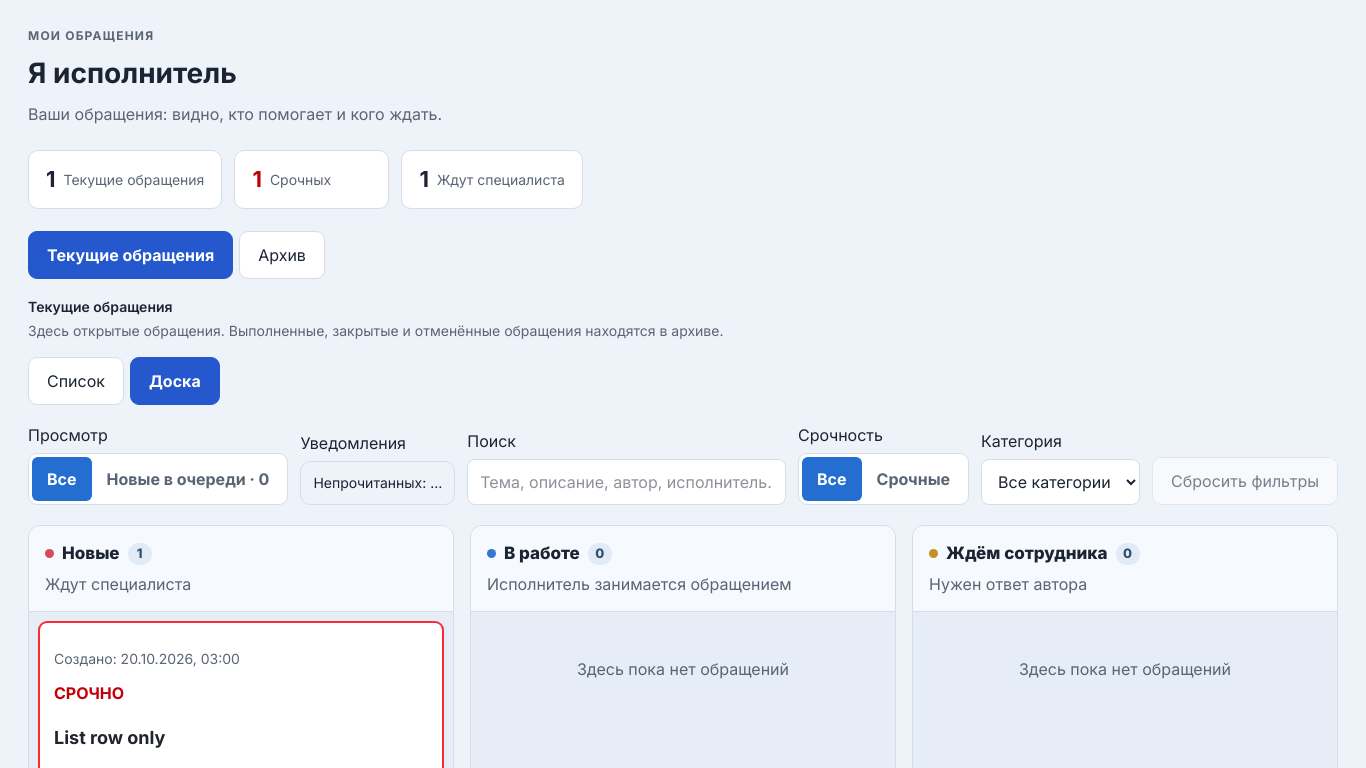
Scenario: actor-bound MyTasks uses the common scalar command controller › denied initial details uses fixed text and a close action without exposing the list as editable
Click the button "List row only" at (110, 738), box [54,716,428,760]
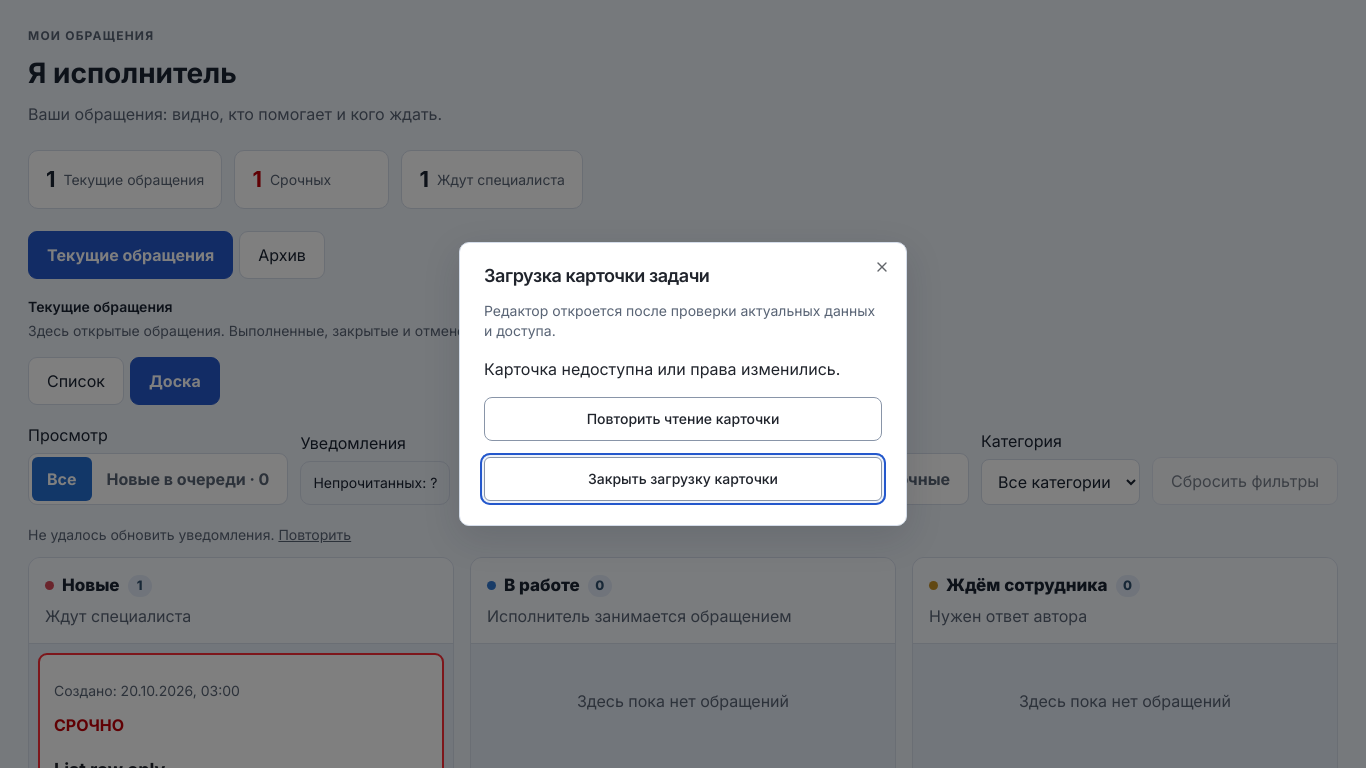
Expected: the text "Карточка недоступна или права изменились." is shown, [484,357,882,381]
Click the button "Закрыть загрузку карточки" at (683, 479), box [484,457,882,501]
(page scrolled)
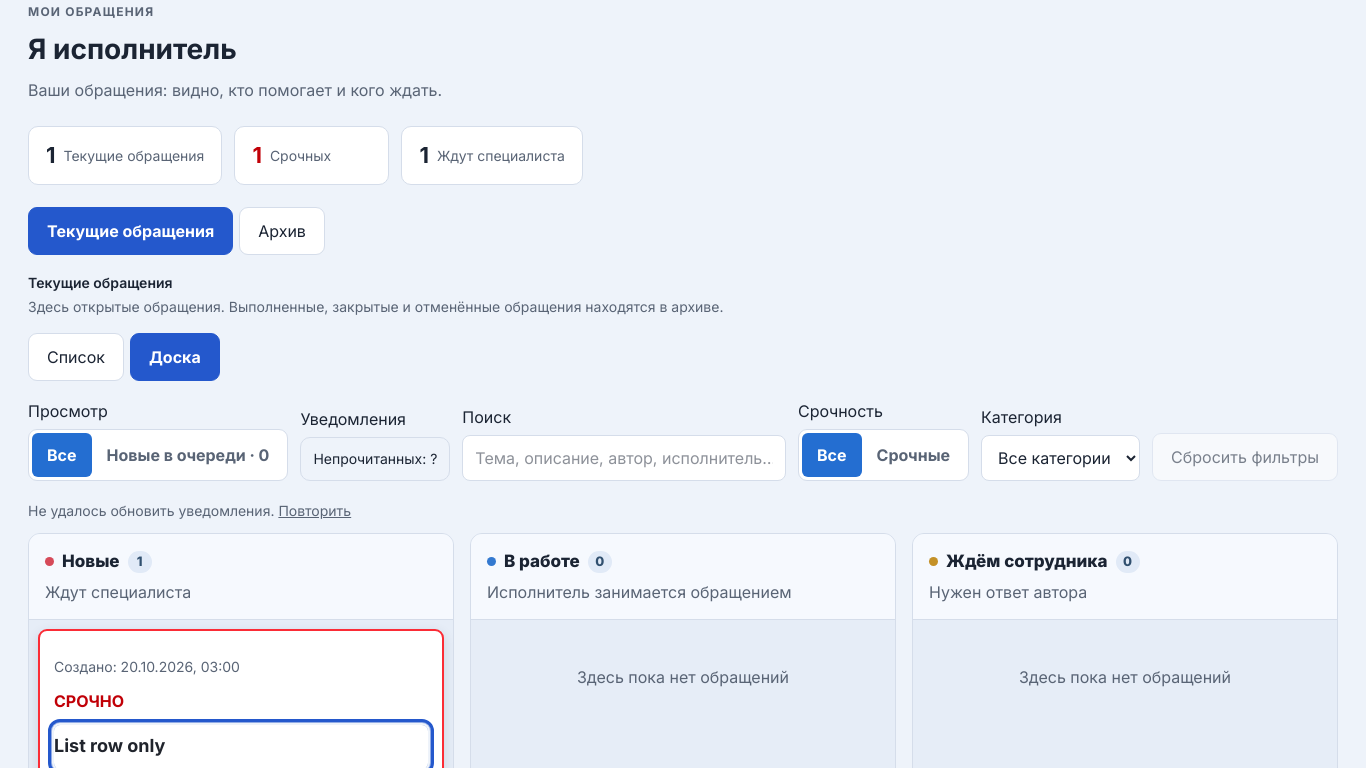
Expected: the dialog is gone
